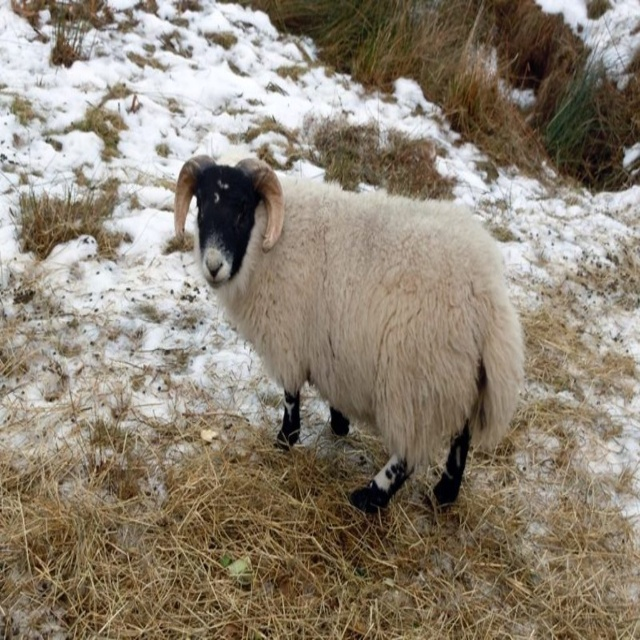Sheep: (173, 154, 525, 513)
